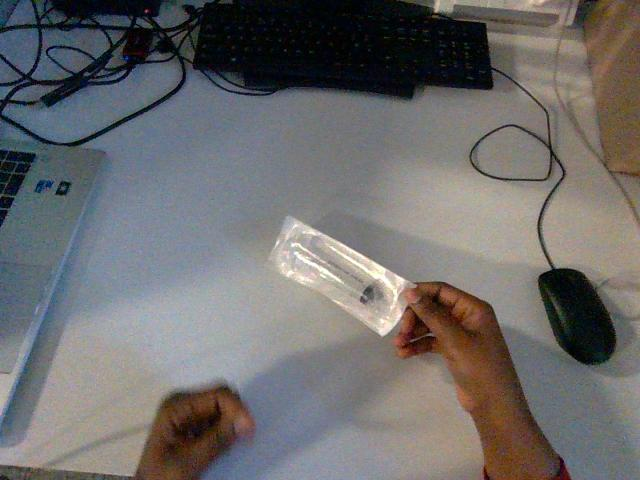syringe: (269, 216, 412, 335)
